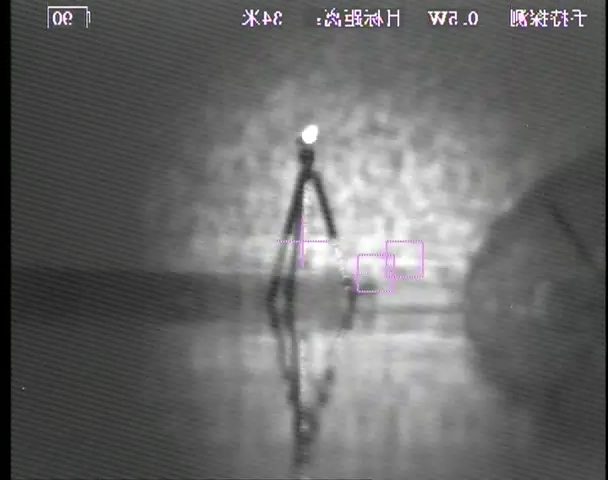my: (299, 121, 321, 145)
